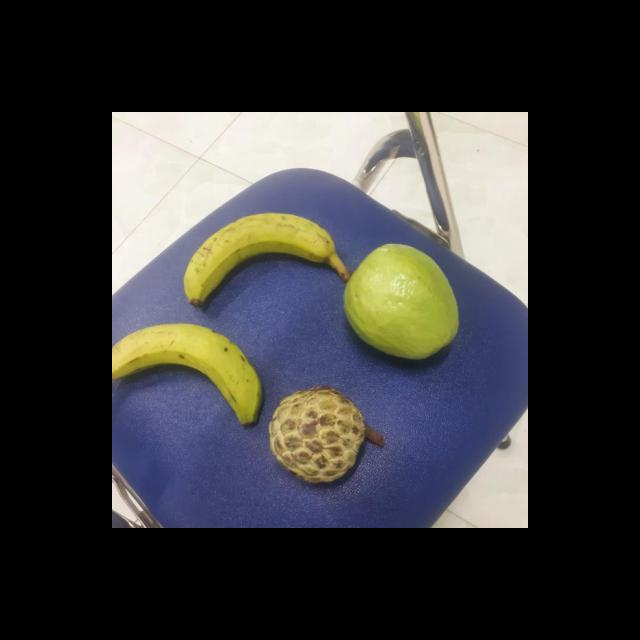Sakya fruit: (271, 386, 375, 488)
banana: (185, 212, 355, 308), (116, 324, 266, 420)
guava: (342, 242, 463, 361)
